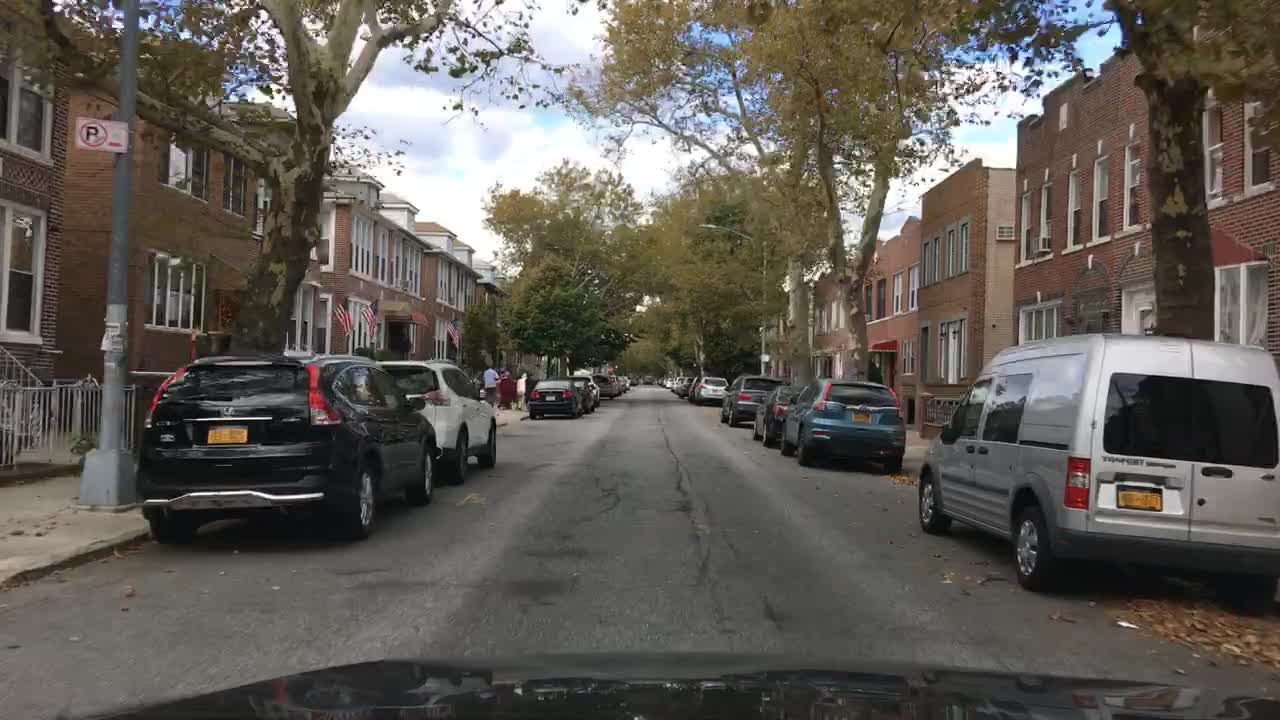car: (916, 331, 1279, 594), (134, 351, 437, 546), (373, 358, 498, 484), (779, 377, 907, 470), (718, 372, 785, 427), (752, 385, 804, 448), (527, 378, 582, 420), (558, 373, 602, 409), (692, 375, 730, 405), (572, 378, 596, 415), (592, 372, 619, 400), (678, 375, 695, 399), (687, 375, 701, 404), (608, 373, 623, 396), (670, 376, 685, 396), (614, 375, 628, 394), (663, 376, 674, 389), (628, 375, 640, 386), (642, 373, 654, 384), (621, 375, 632, 386), (656, 376, 664, 386), (661, 376, 668, 387)
person: (482, 364, 500, 405), (498, 366, 515, 408), (515, 372, 528, 411)
traffic sign: (74, 117, 129, 152), (761, 353, 771, 362)
